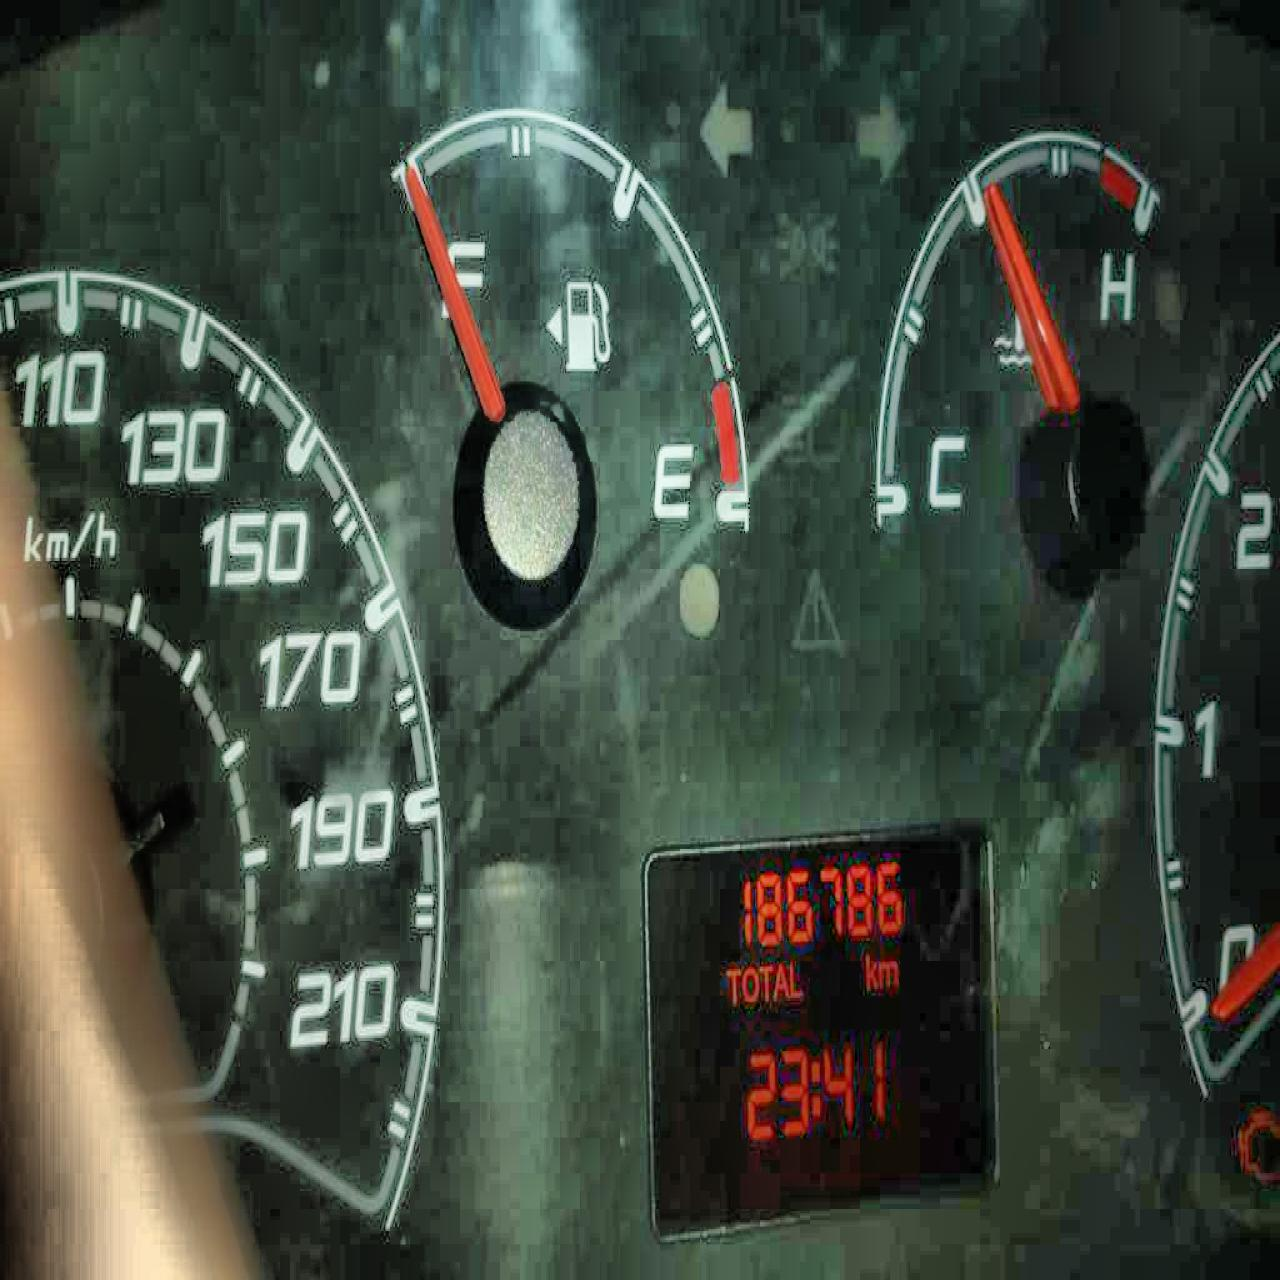1: (871, 1038, 885, 1118), (740, 876, 752, 944)
2: (744, 1044, 776, 1142)
3: (778, 1044, 808, 1138)
4: (822, 1042, 854, 1127)
6: (785, 867, 813, 942), (876, 860, 902, 936)
7: (818, 864, 842, 938)
8: (755, 869, 783, 944), (845, 862, 873, 936)
X: (722, 964, 742, 1004), (809, 1058, 821, 1118), (878, 955, 898, 989), (742, 964, 758, 1002), (758, 962, 774, 1000), (774, 962, 788, 1000), (788, 960, 802, 998), (864, 951, 876, 989)
odometer: (638, 811, 1012, 1251)
